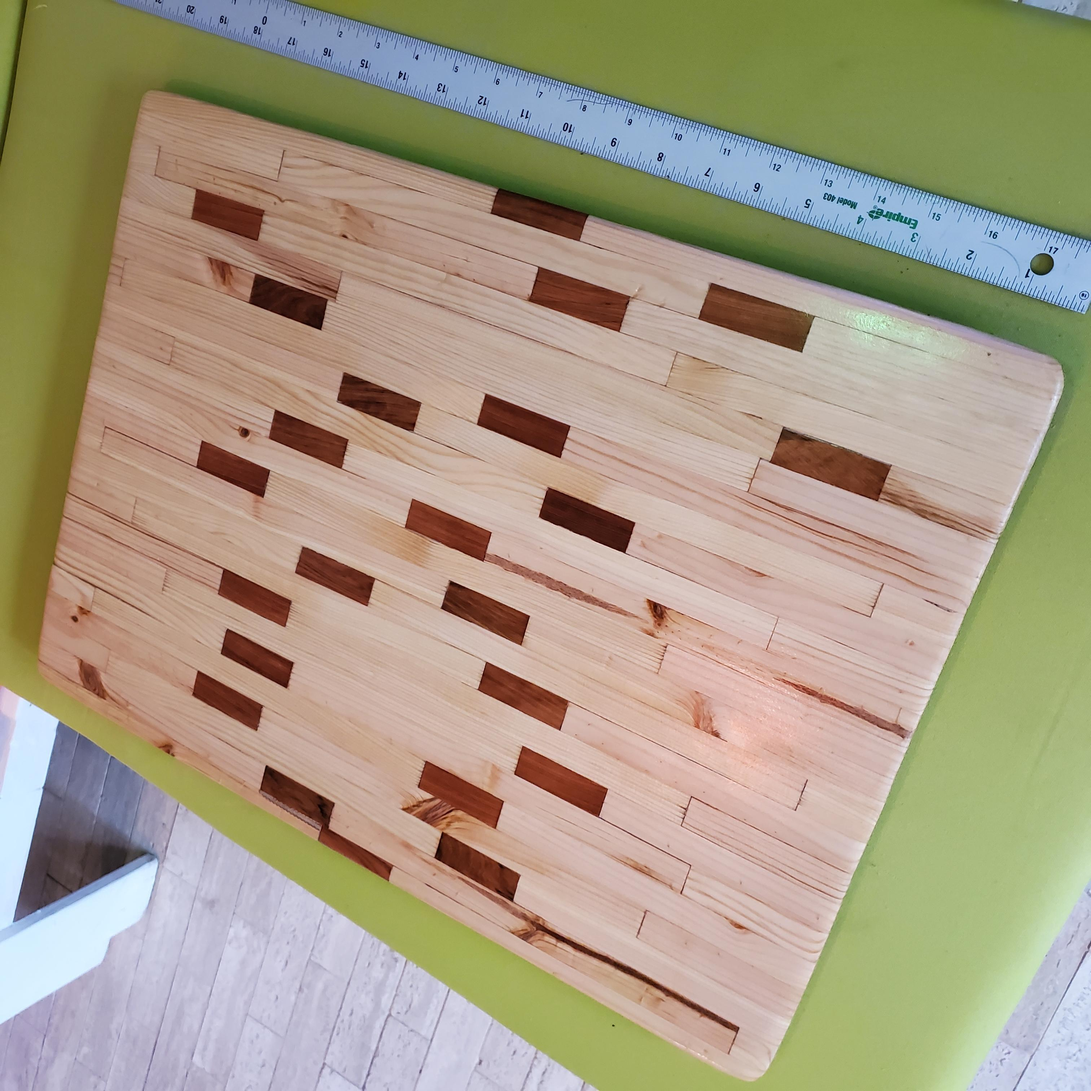gloved_hand: (22, 30, 1019, 1070)
